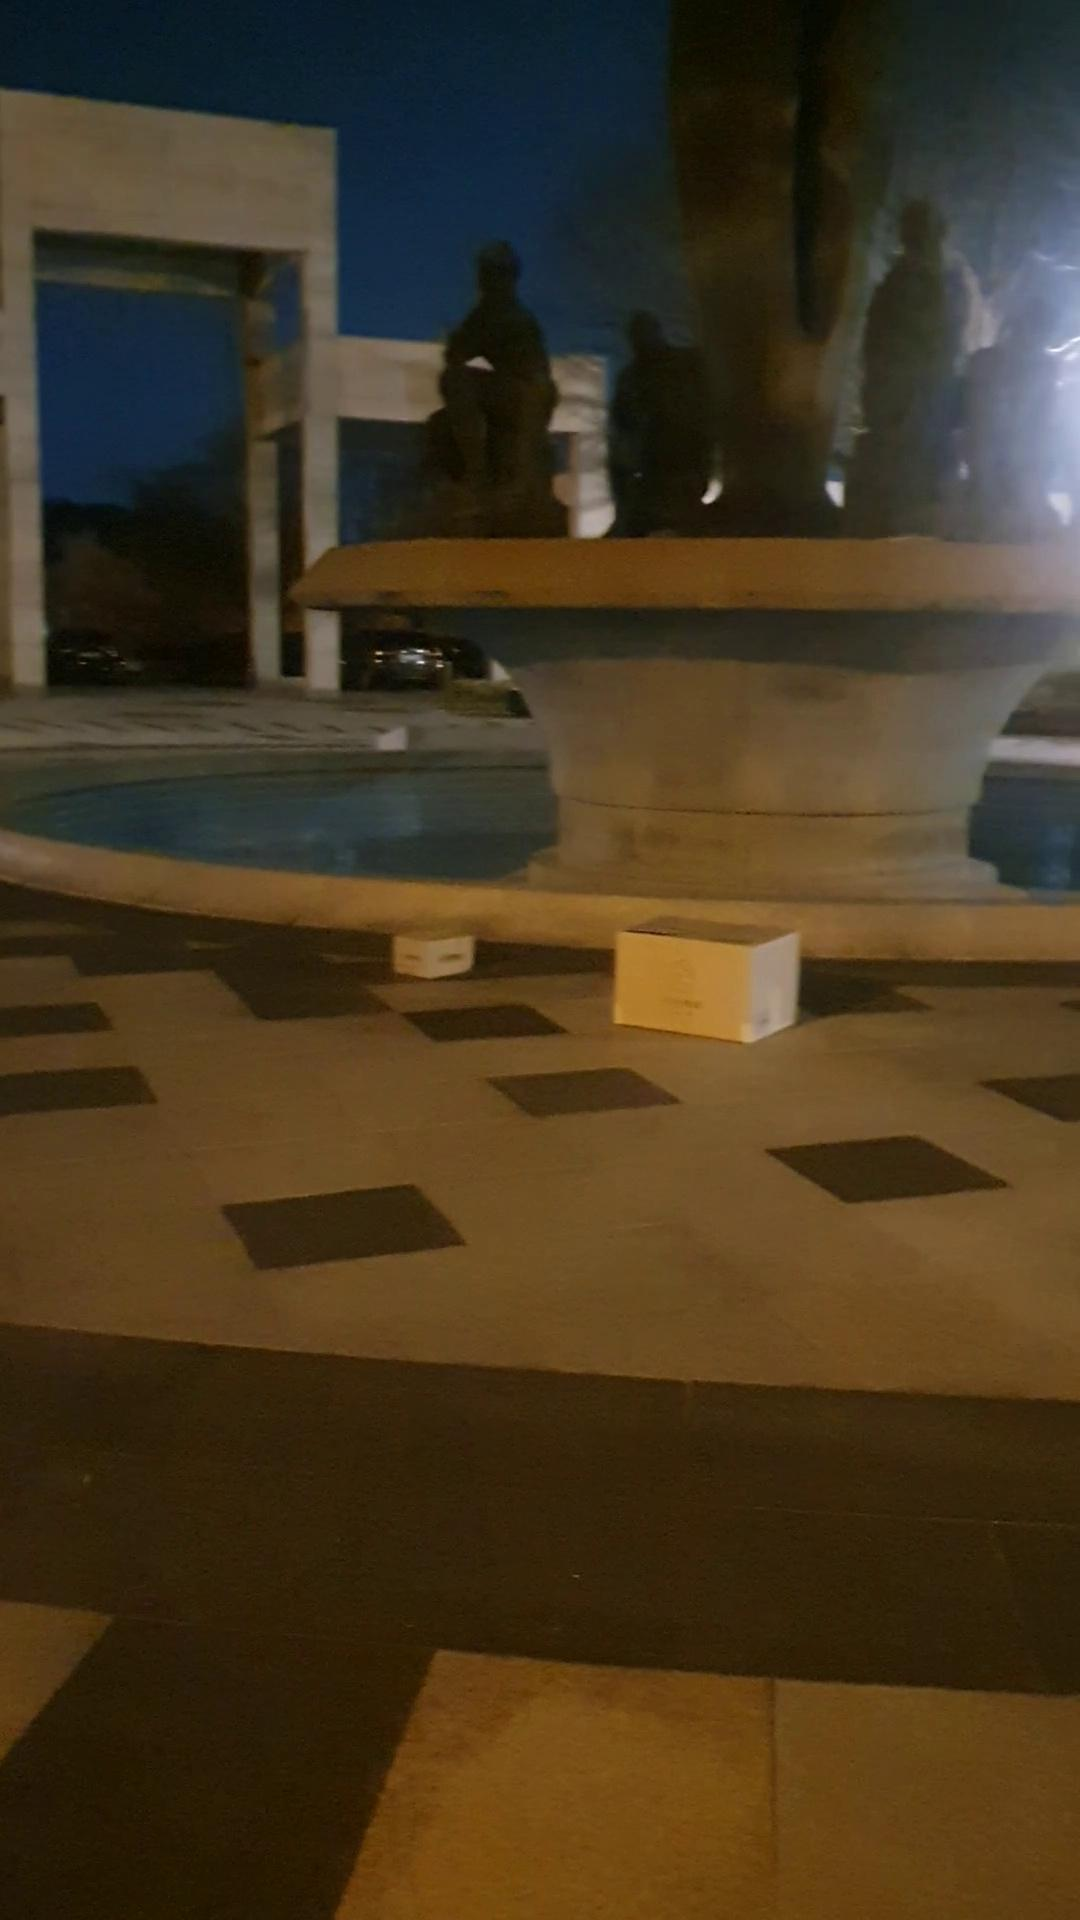Box: (607, 905, 804, 1042), (381, 913, 485, 985)
